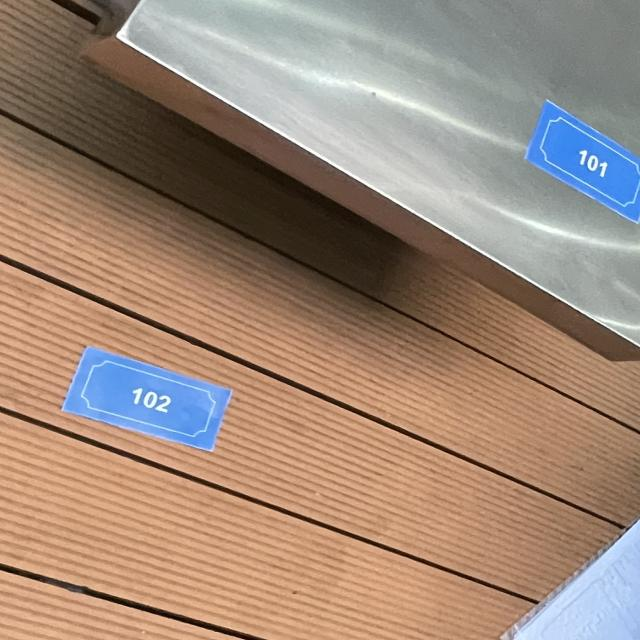Card: (32, 325, 251, 466), (506, 78, 640, 248)
